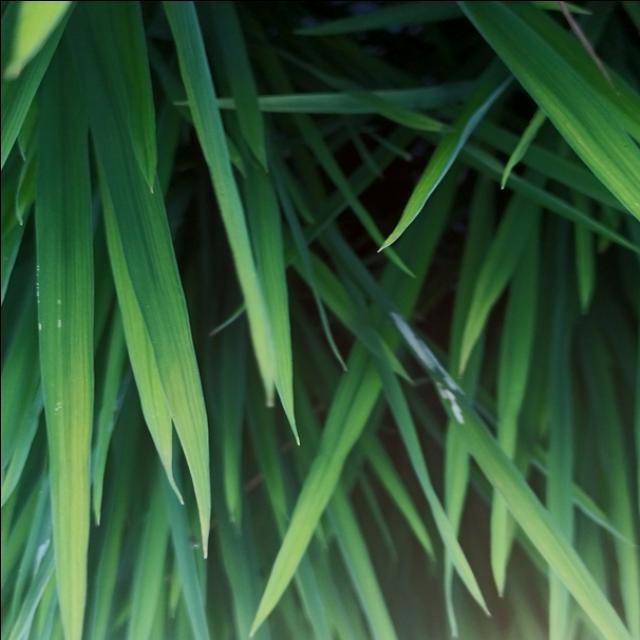Penggulung Daun: (382, 304, 480, 438)
